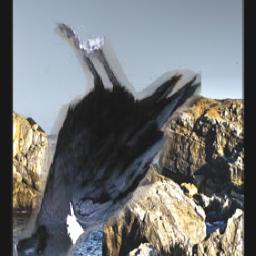Crow: (14, 20, 202, 256)
